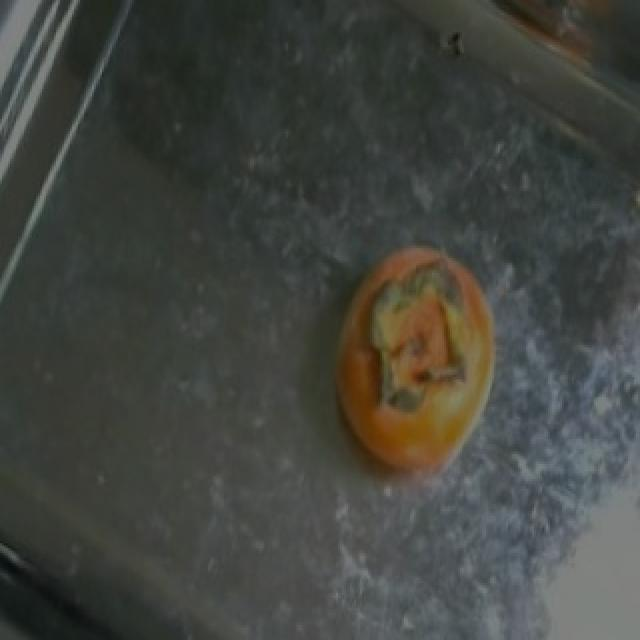Fruit: (308, 226, 524, 511)
